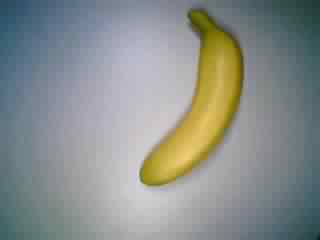banana: (138, 5, 245, 190)
